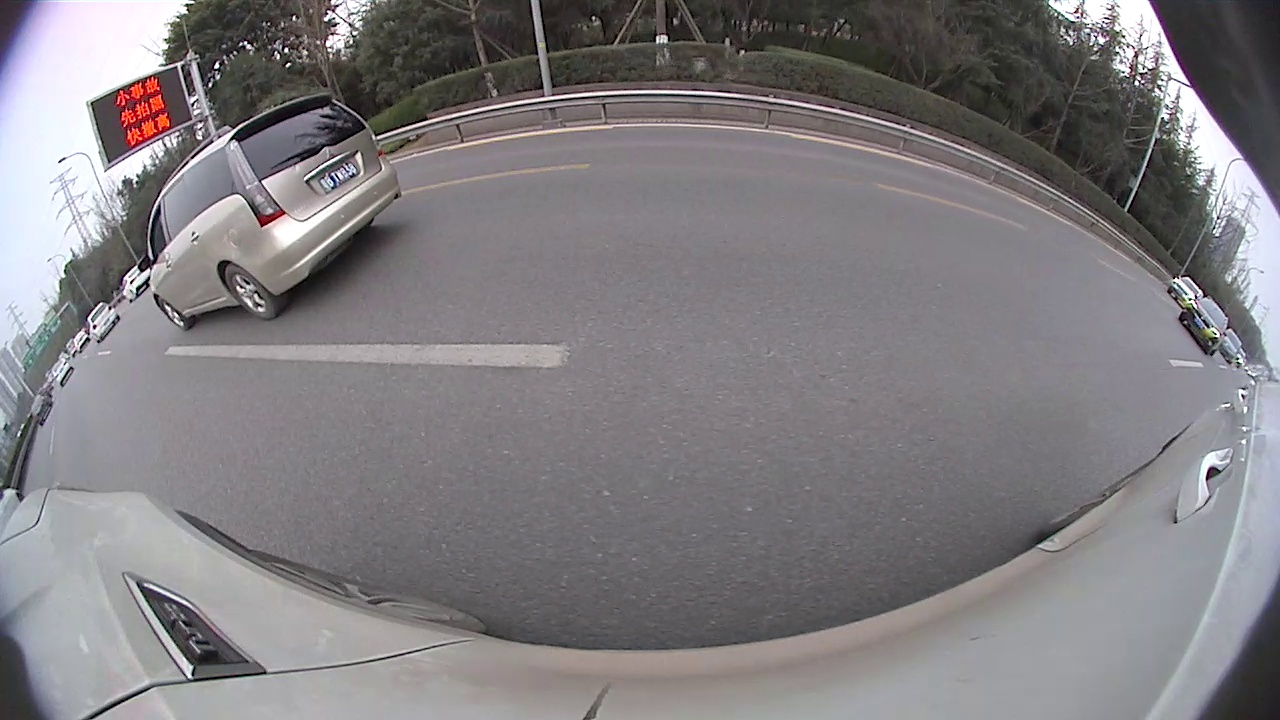car: (144, 90, 405, 332), (1177, 294, 1231, 358), (84, 299, 122, 344), (119, 258, 154, 302), (1166, 274, 1205, 312), (1216, 327, 1244, 365), (28, 392, 54, 427), (49, 355, 76, 388)
front: (157, 298, 188, 328)
rear: (223, 264, 276, 320)
